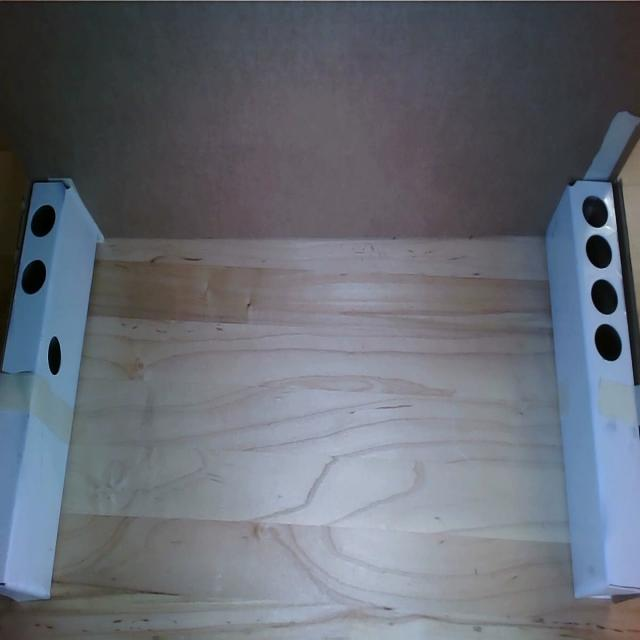Hole: (594, 324, 622, 361), (592, 279, 618, 314), (586, 235, 612, 269), (582, 195, 608, 228), (30, 205, 56, 237), (22, 260, 46, 294), (48, 336, 62, 375)
